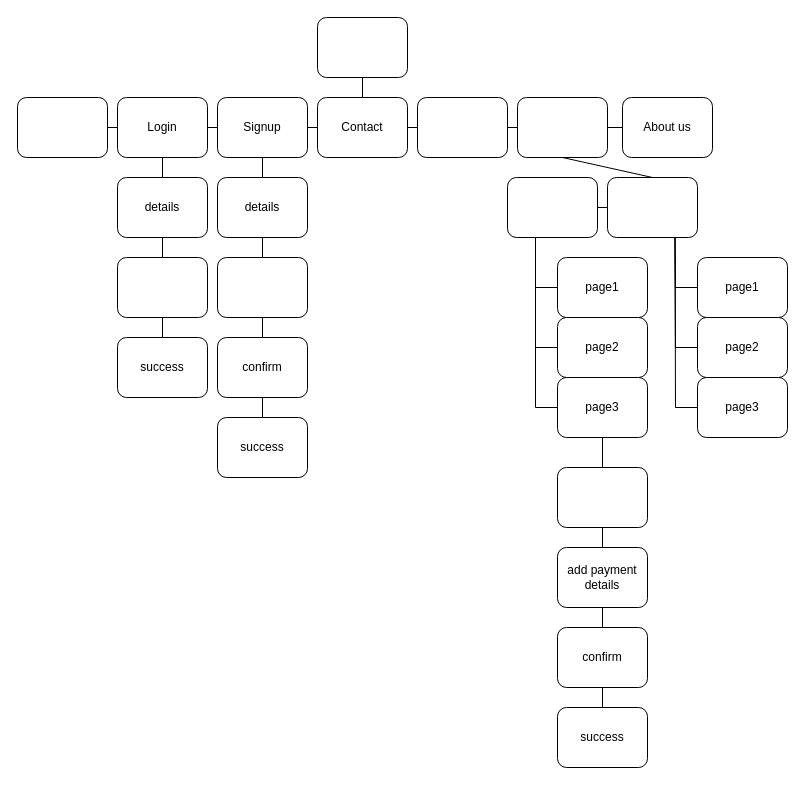
Some shapes in this 805 by 785 pixel diagram are drawn without their labels. The centre of each missing label's shape, as x and y in pixels:
"All rooms" goes at (652,207).
"confrm" goes at (162,287).
"hire room" goes at (602,497).
"index" goes at (362,47).
"Our services" goes at (562,127).
"Policies" goes at (62,127).
"Rooms available" goes at (552,207).
"Search" goes at (462,127).
"verify" goes at (262,287).
